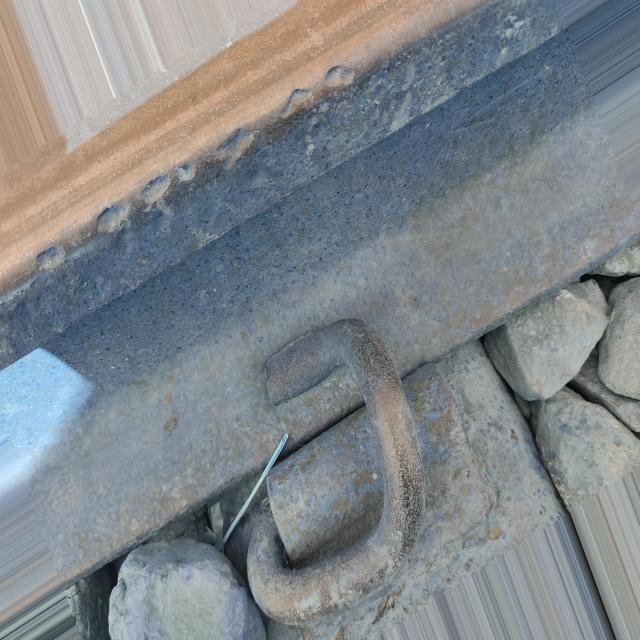Good Fasteners: (243, 319, 496, 627)
